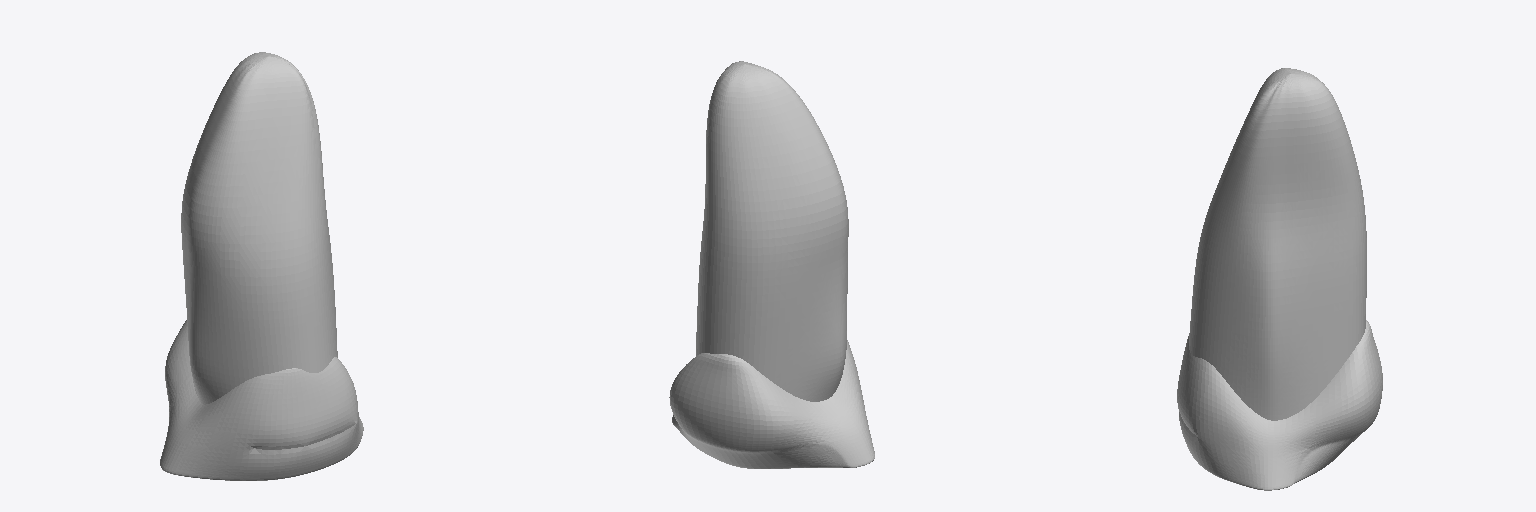
Rendered from Transversal.obj.
The picture shows the model from 3 angles: view 1: azimuth 30°, elevation 25°; view 2: azimuth 150°, elevation 25°; view 3: azimuth 270°, elevation 25°; orthographic projection.
Parts seen in each view (by area): view 1: Cylinder, Cylinder.001_Cylinder.002; view 2: Cylinder, Cylinder.001_Cylinder.002; view 3: Cylinder, Cylinder.001_Cylinder.002.
Part boxes in pixels (left/top/right/bottom): Cylinder: left=181, top=52, right=337, bottom=404; Cylinder.001_Cylinder.002: left=160, top=320, right=363, bottom=480; Cylinder: left=696, top=61, right=848, bottom=401; Cylinder.001_Cylinder.002: left=669, top=340, right=874, bottom=468; Cylinder: left=1189, top=68, right=1366, bottom=420; Cylinder.001_Cylinder.002: left=1177, top=320, right=1382, bottom=490.
Size of the model in its own units: 1.55 by 2.88 by 1.4.